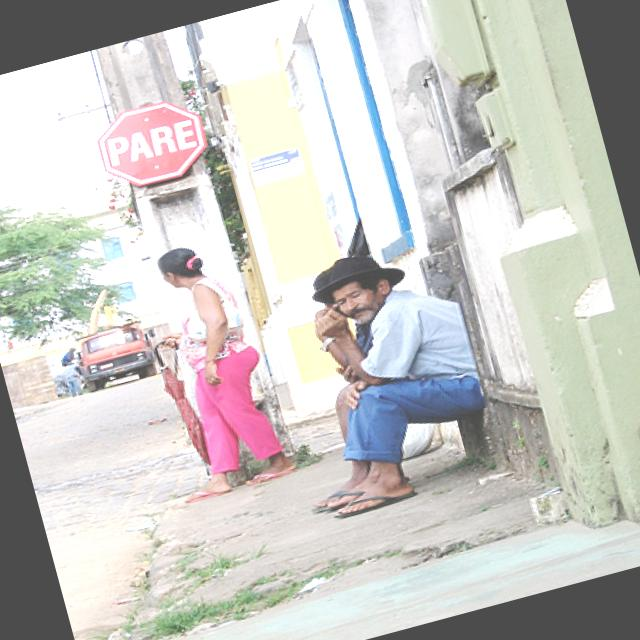Vehicle: (72, 320, 160, 394)
